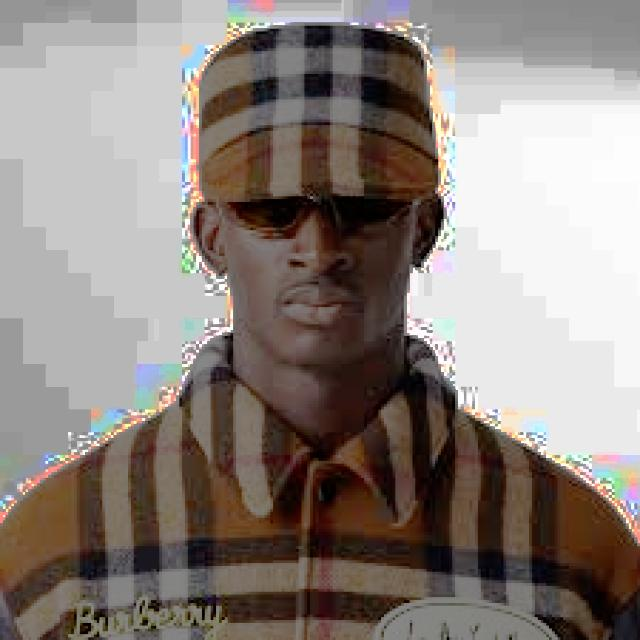TOPI: (193, 15, 444, 214)
